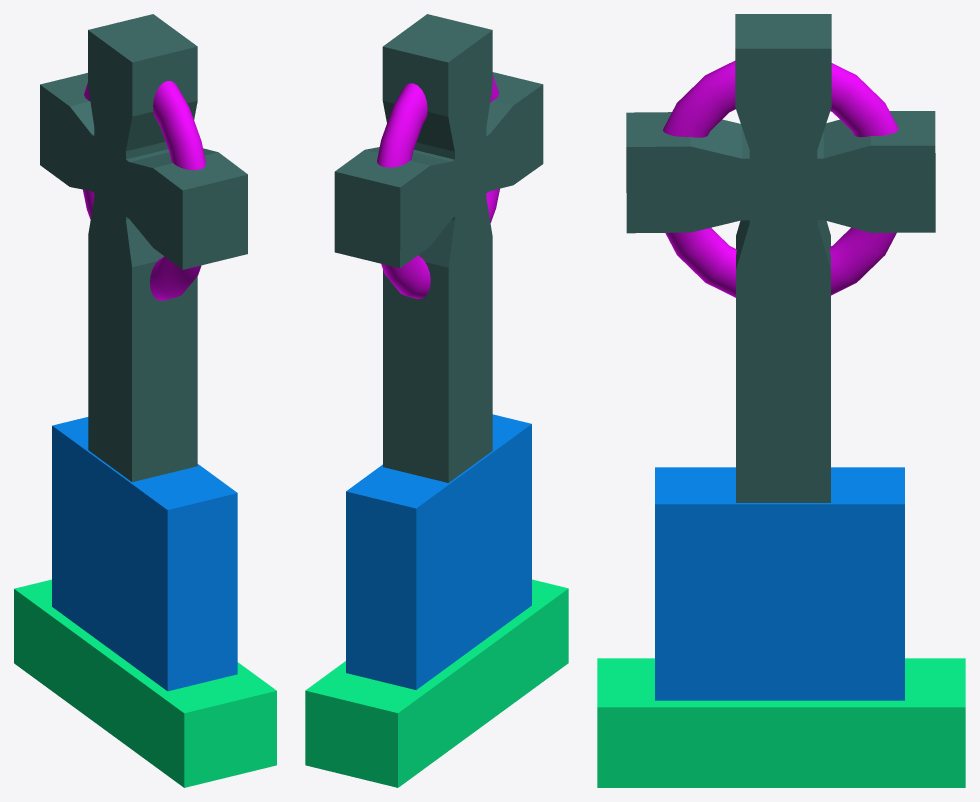
The model's file is Lapida_5.fbx.
3 views of the same model, side by side, from view 1: azimuth 30°, elevation 25°; view 2: azimuth 150°, elevation 25°; view 3: azimuth 270°, elevation 25° (orthographic). The views are drawn at different scales.
Parts seen in each view (by area): view 1: pCube16, pCube13, pCube12, pTorus1; view 2: pCube16, pCube13, pCube12, pTorus1; view 3: pCube16, pCube13, pCube12, pTorus1.
Part boxes in pixels (<box>): pCube16: <box>40,14,247,482</box>; pCube13: <box>52,417,237,691</box>; pCube12: <box>14,579,276,787</box>; pTorus1: <box>83,81,205,300</box>; pCube16: <box>334,14,543,482</box>; pCube13: <box>346,414,531,689</box>; pCube12: <box>305,579,568,787</box>; pTorus1: <box>377,74,499,298</box>; pCube16: <box>626,14,935,502</box>; pCube13: <box>655,467,904,700</box>; pCube12: <box>597,658,965,787</box>; pTorus1: <box>663,61,898,297</box>.
Size of the model in its own units: 1 by 6.97 by 3.18.
